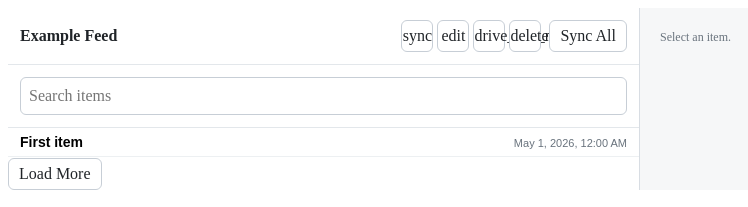
Test: RssApp › loads more items with the current cursor
This screenshot has width=748, height=207.
Click the button "Load More": [55, 174] box [8,158,102,190]
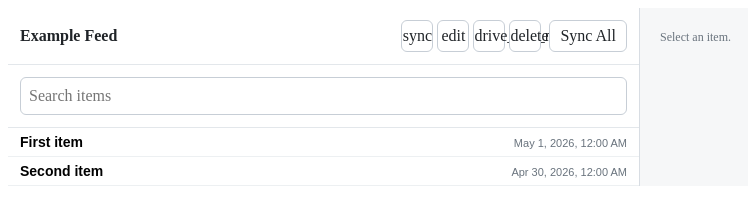
Now the text "Second item" is shown, box [20,163,103,179]
